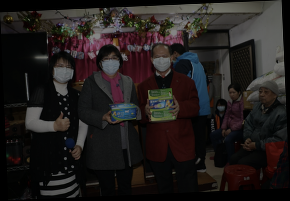with_mask: (53, 63, 75, 84), (100, 55, 120, 75), (153, 53, 170, 72), (218, 104, 227, 113)
without_mask: (259, 89, 276, 105), (229, 90, 240, 101)
